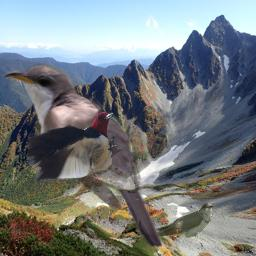Cuckoo: (1, 60, 162, 253), (124, 202, 213, 242)
Woodpecker: (28, 108, 123, 182)
